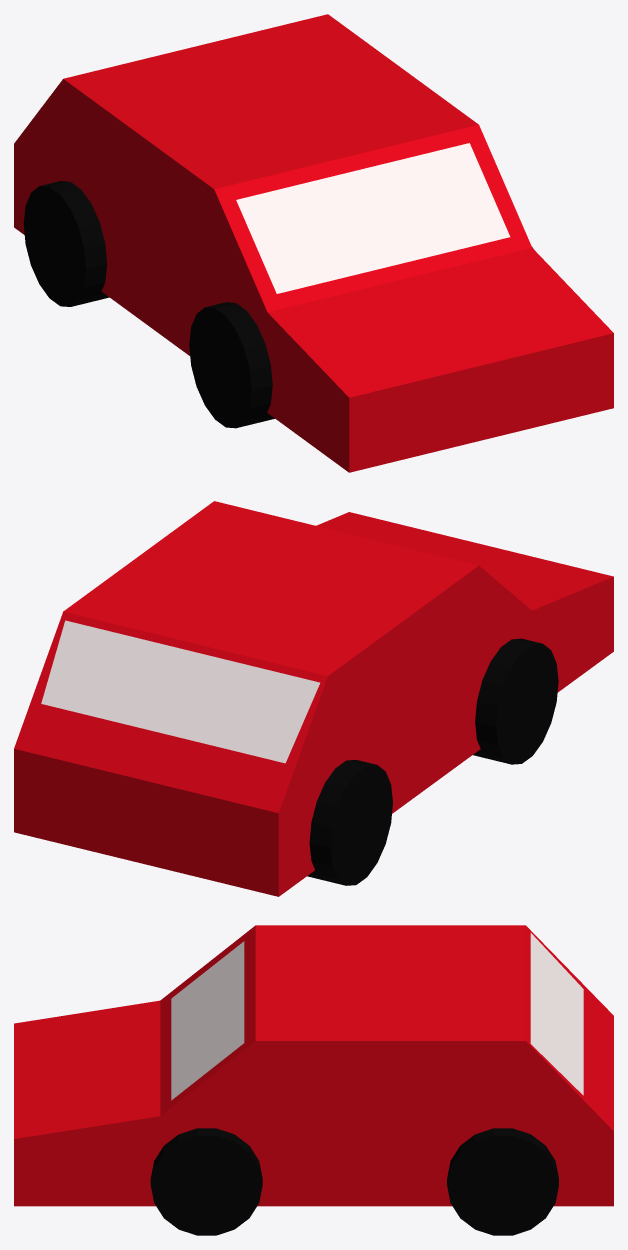
The model's file is Car.fbx.
3 renders of one model, top to bottom at view 1: azimuth 30°, elevation 25°; view 2: azimuth 150°, elevation 25°; view 3: azimuth 270°, elevation 25°, orthographic. The views are drawn at different scales.
Parts seen in each view (by area): view 1: Cube.021; view 2: Cube.021; view 3: Cube.021.
Boxes of the visible parts, x1,y1,x2,y2 form: Cube.021: (14, 14, 613, 472); Cube.021: (14, 501, 613, 896); Cube.021: (14, 925, 613, 1235).
Size of the model in its own units: 343 by 226 by 658.
